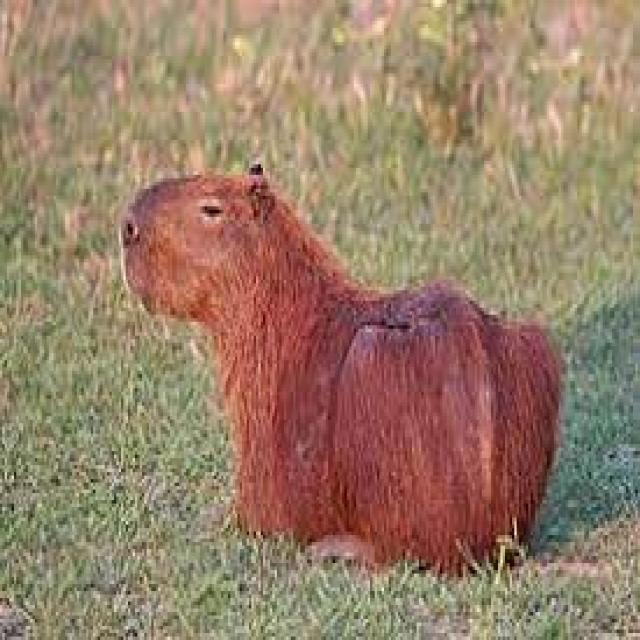capy: (118, 159, 562, 575)
